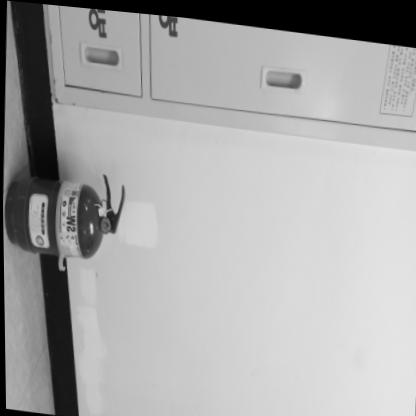FE: (3, 159, 127, 262)
